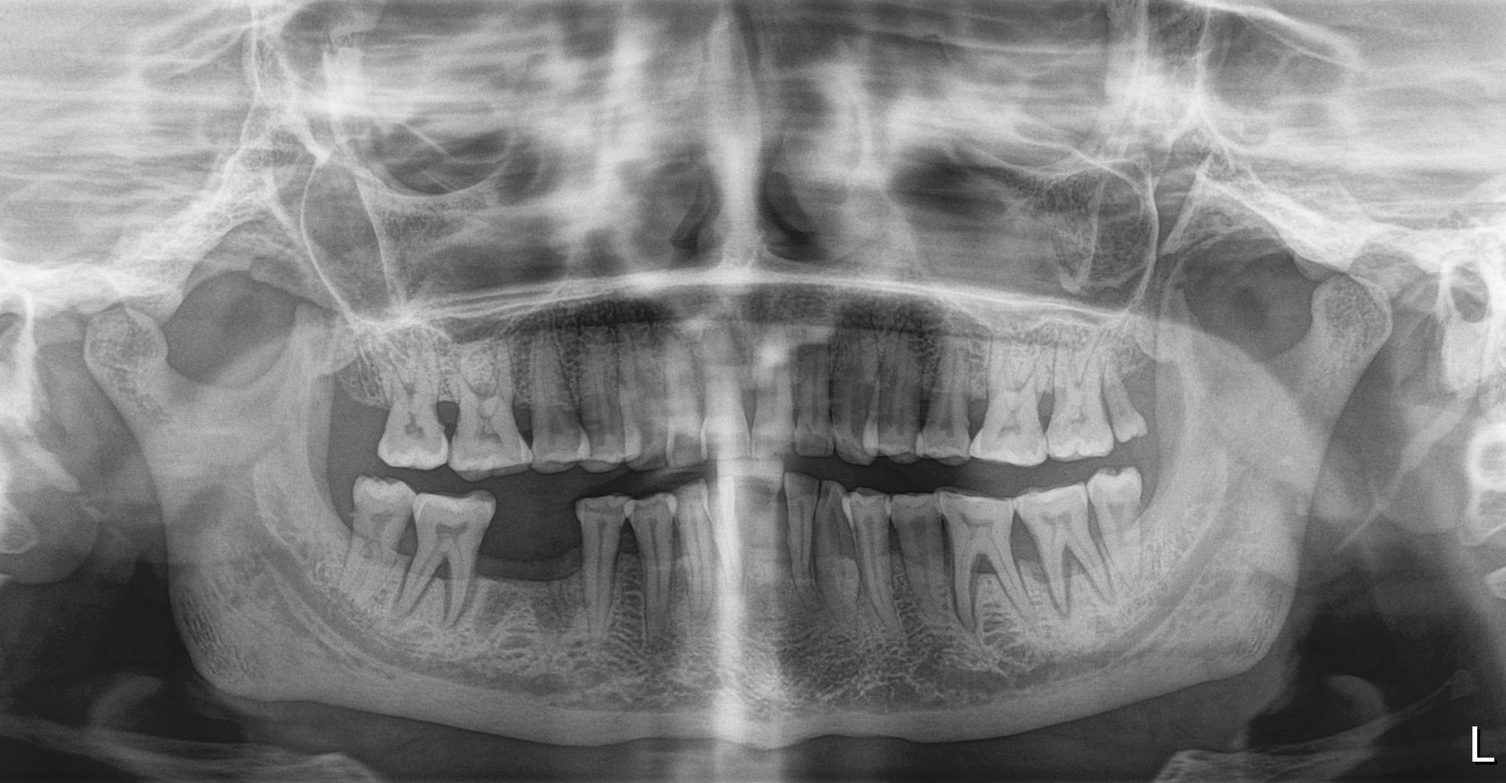Missing Tooth: (491, 498, 586, 613)
Periapical Lesion: (1018, 494, 1101, 647), (947, 507, 1016, 651), (415, 500, 483, 619)
Periodontal Pocket: (976, 529, 1073, 616)
